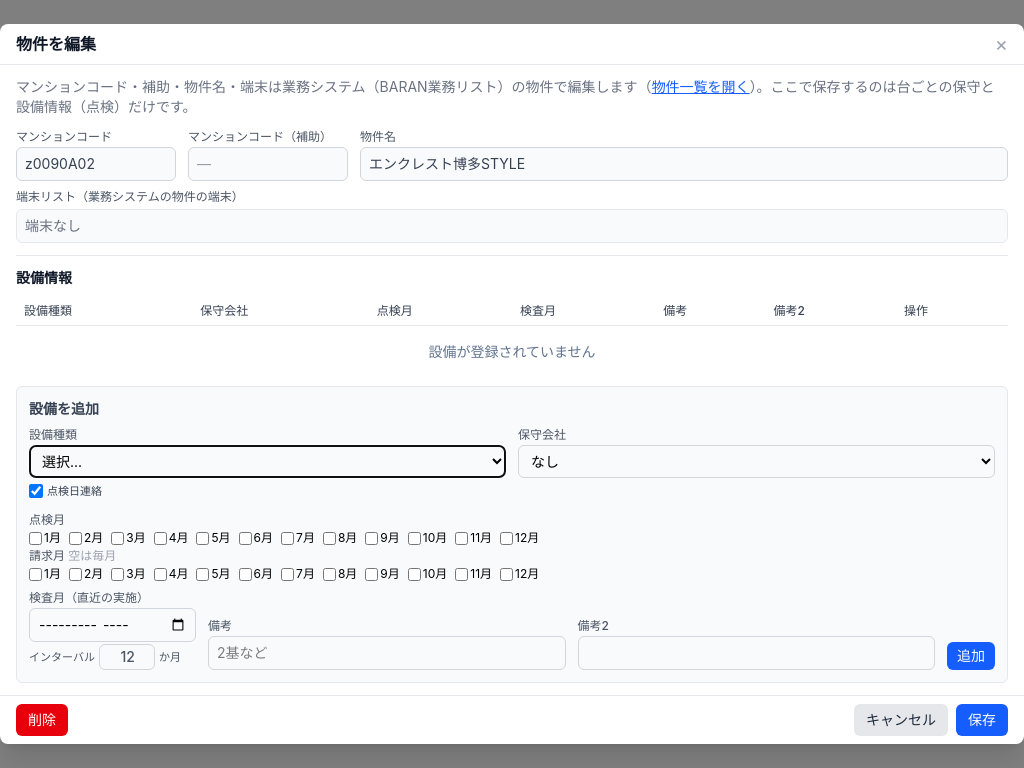
Scenario: PropertyFormModal 削除 › refuses with 「紐づけありの為、削除できません」 and the counts when the property has links
Click the button "削除": (42, 720) [16,704,68,736]
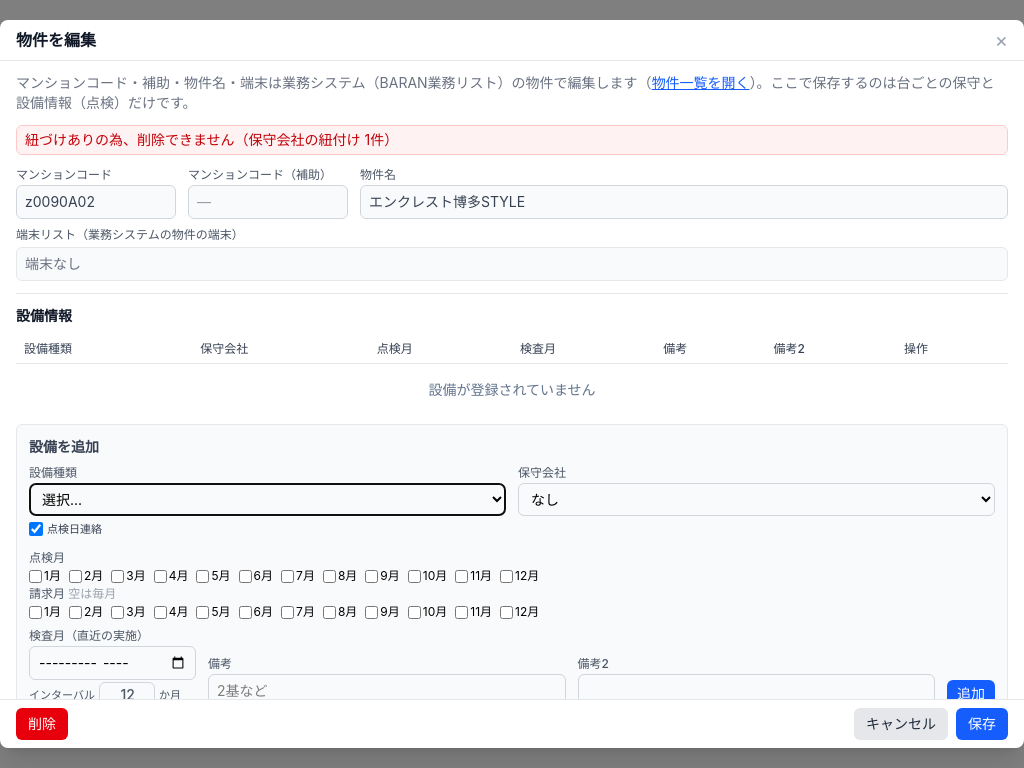
Expected: the message reads "紐づけありの為、削除できません（保守会社の紐付け 1件）", [25,131,398,148]
